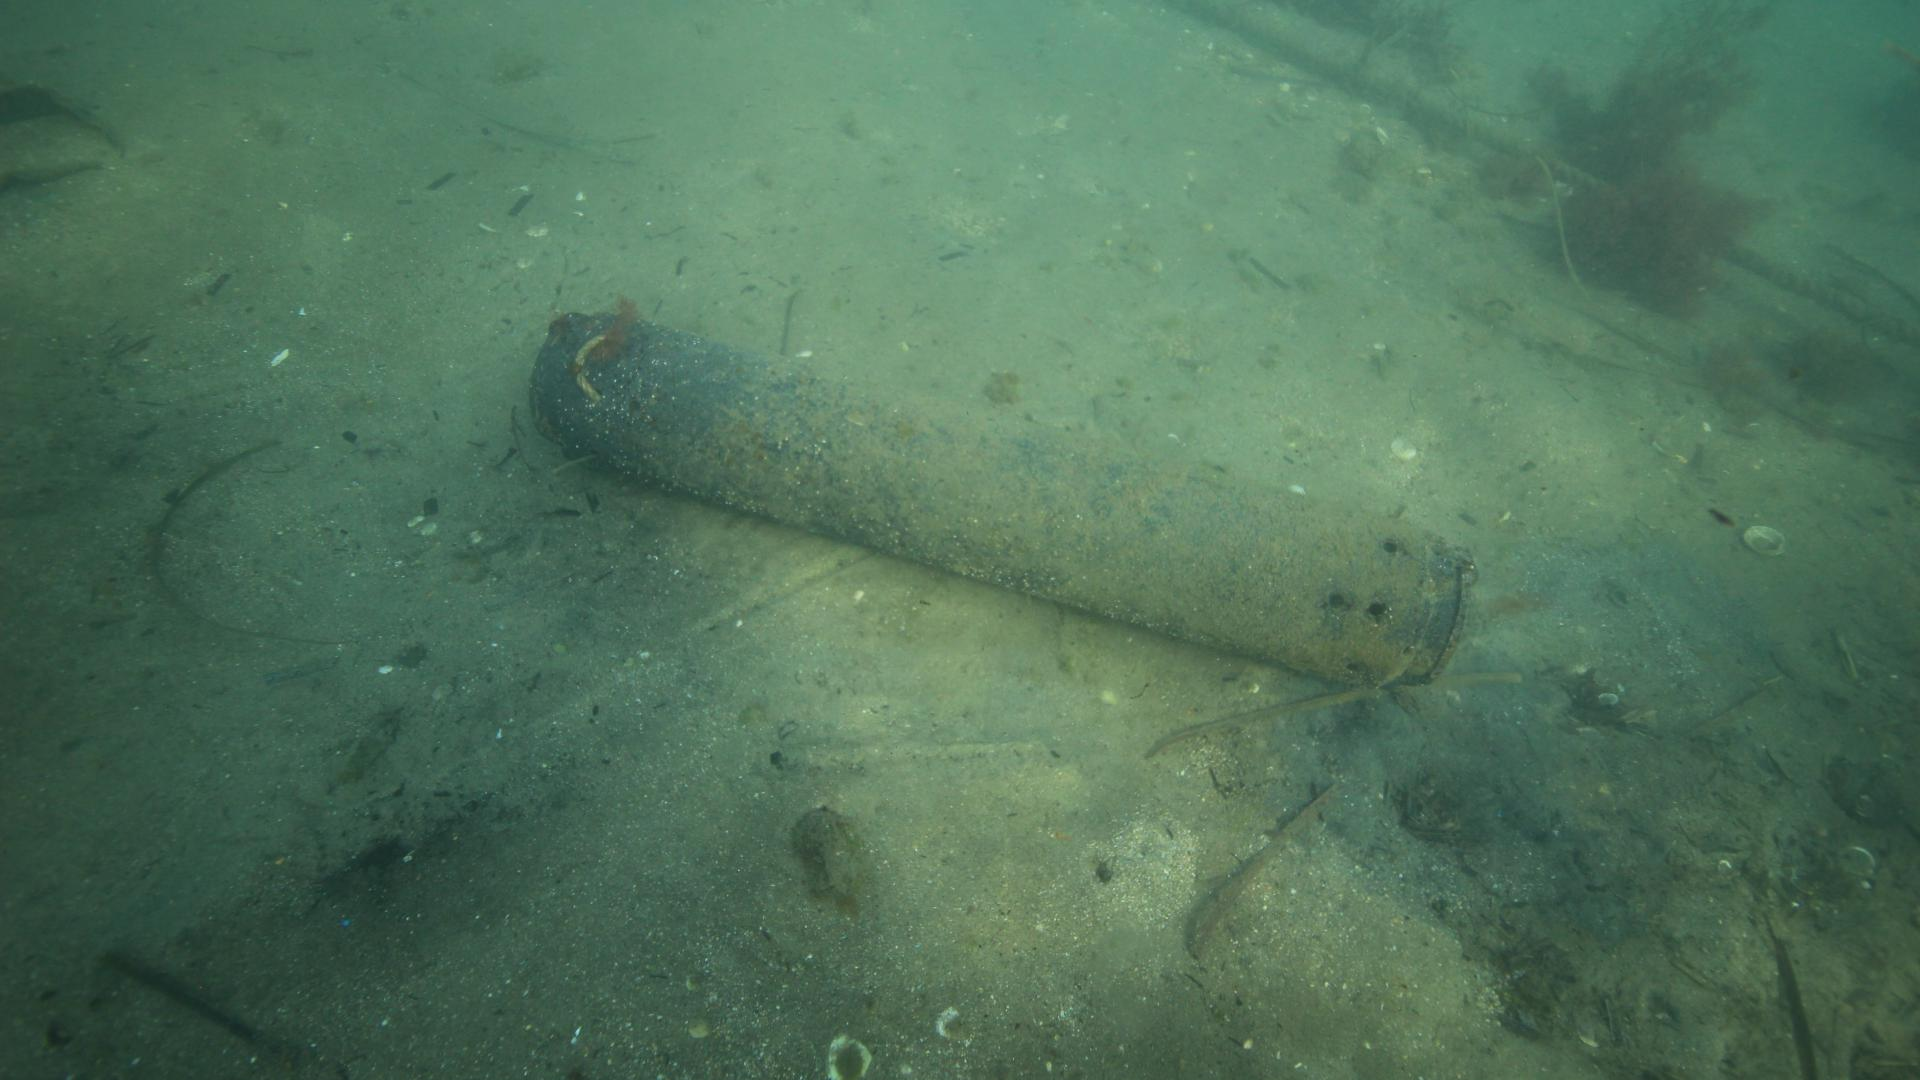eel fish trap: (530, 309, 1470, 694)
rope: (1168, 0, 1920, 344), (571, 331, 608, 402)
